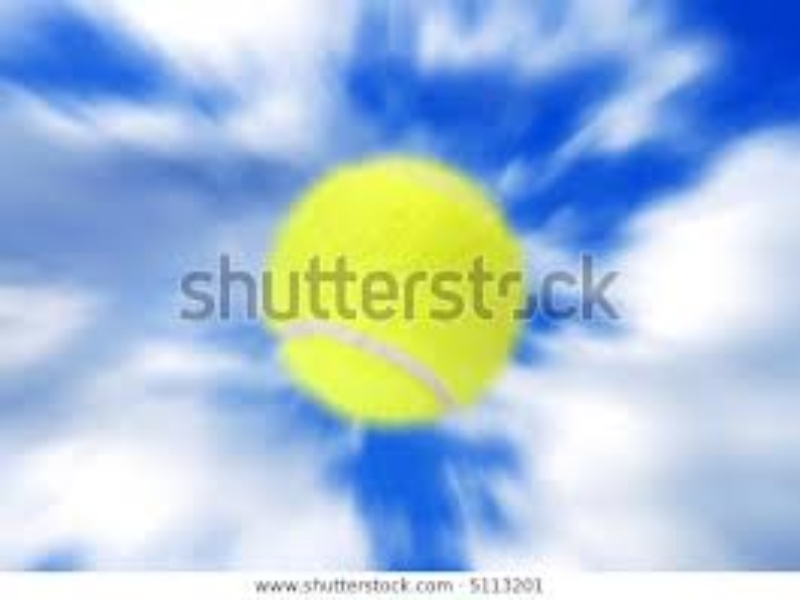tennis ball: (261, 152, 547, 432)
